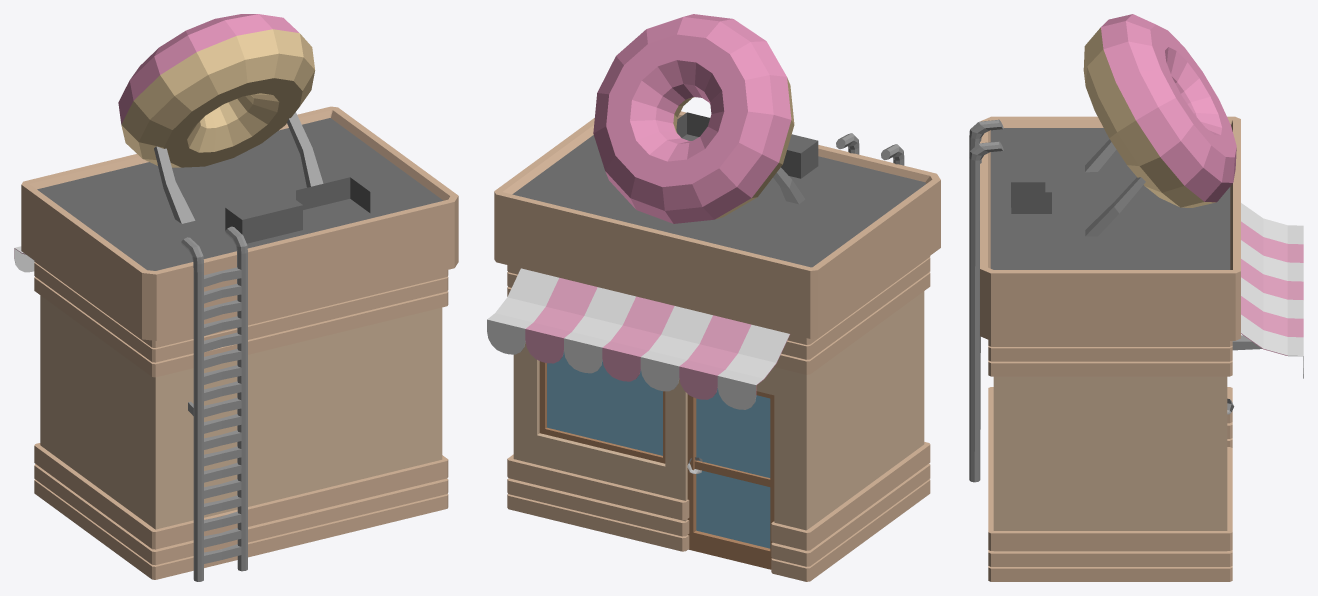
The model's file is donut-shop.glb.
3 renders of one model, left to right at view 1: azimuth 30°, elevation 25°; view 2: azimuth 150°, elevation 25°; view 3: azimuth 270°, elevation 25°, orthographic. The views are drawn at different scales.
Parts seen in each view (by area): view 1: Cube.003_Cube.006, Cube, Torus, Cylinder, Cube.008_Cube.001, Cube.006_Cube.010; view 2: Cube.003_Cube.006, Cube, Torus, Cube.004_Cube.008, Cube.001_Cube.004, Cube.002_Cube.003, Cube.008_Cube.001, Cylinder, Cube.006_Cube.010; view 3: Cube.003_Cube.006, Cube, Torus, Cube.004_Cube.008, Cylinder, Cube.008_Cube.001, Cube.006_Cube.010.
Part boxes in pixels (box(x1,y1,x2,y2)): Cube.003_Cube.006: box(21, 106, 458, 579); Cube: box(40, 295, 442, 529); Torus: box(118, 14, 315, 167); Cylinder: box(181, 226, 247, 581); Cube.008_Cube.001: box(225, 177, 370, 243); Cube.006_Cube.010: box(154, 112, 323, 223); Cube.003_Cube.006: box(494, 111, 940, 581); Cube: box(513, 291, 924, 535); Torus: box(593, 14, 794, 223); Cube.004_Cube.008: box(487, 268, 790, 409); Cube.001_Cube.004: box(547, 352, 770, 548); Cube.002_Cube.003: box(539, 361, 774, 569); Cube.008_Cube.001: box(676, 112, 818, 178); Cylinder: box(836, 133, 904, 165); Cube.006_Cube.010: box(773, 167, 805, 204); Cube.003_Cube.006: box(980, 116, 1240, 581); Cube: box(993, 376, 1227, 551); Torus: box(1083, 14, 1236, 207); Cube.004_Cube.008: box(1241, 203, 1303, 378); Cylinder: box(969, 119, 1003, 482); Cube.008_Cube.001: box(1011, 152, 1051, 213); Cube.006_Cube.010: box(1085, 139, 1145, 236).
Size of the model in its own units: 1.15 by 1.67 by 1.04.
